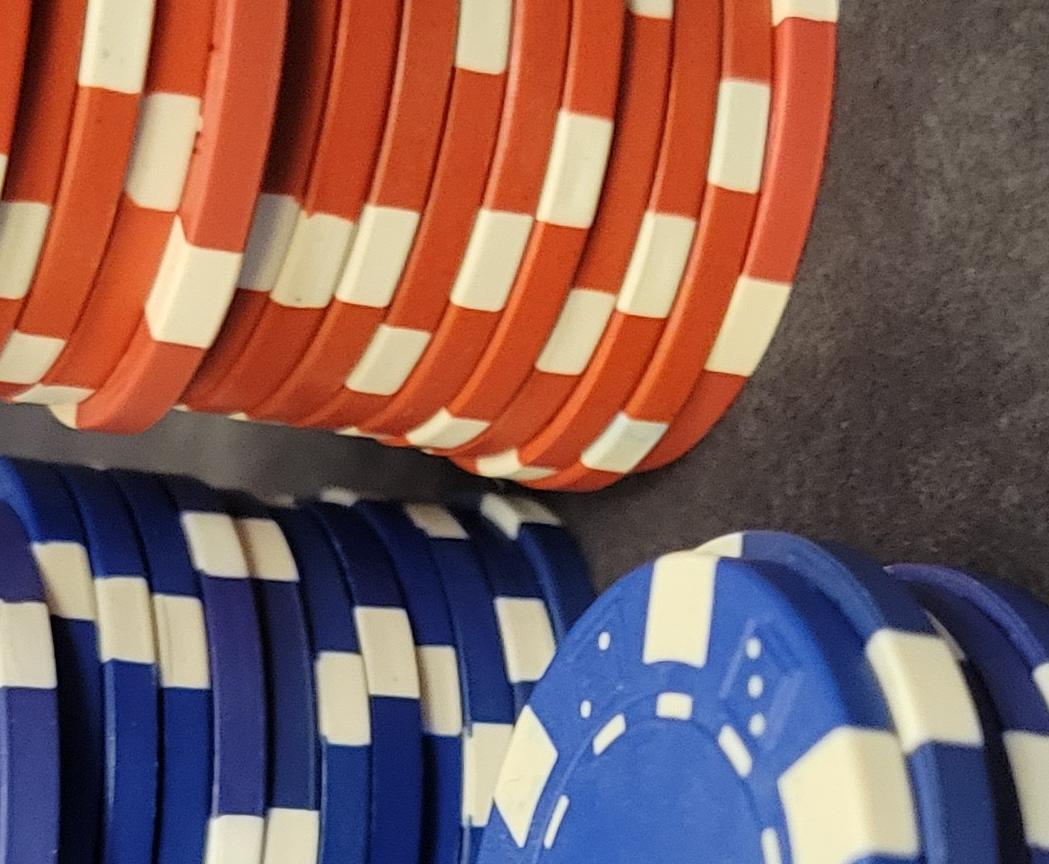Chip: (1, 238, 421, 864)
